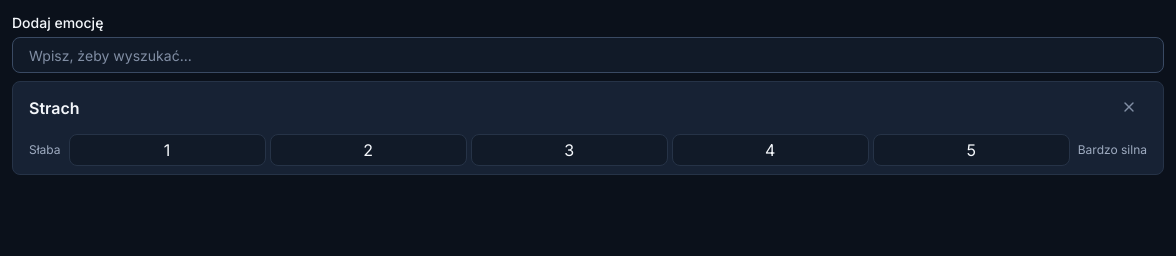
Test: EmotionsEditor - wyszukiwarka podpowiedzi › już dodanej emocji nie ma na liście podpowiedzi (bez duplikatów)
The width and height of the screenshot is (1176, 256).
Click the field labelled "Dodaj emocję".
click(588, 55)  # box top-left (12, 37), bottom-right (1164, 73)
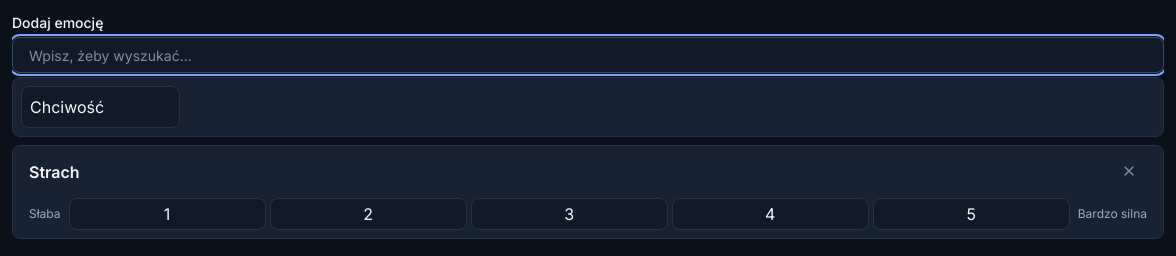
Expected: the button "Chciwość" is shown, top-left (21, 86), bottom-right (180, 128)
